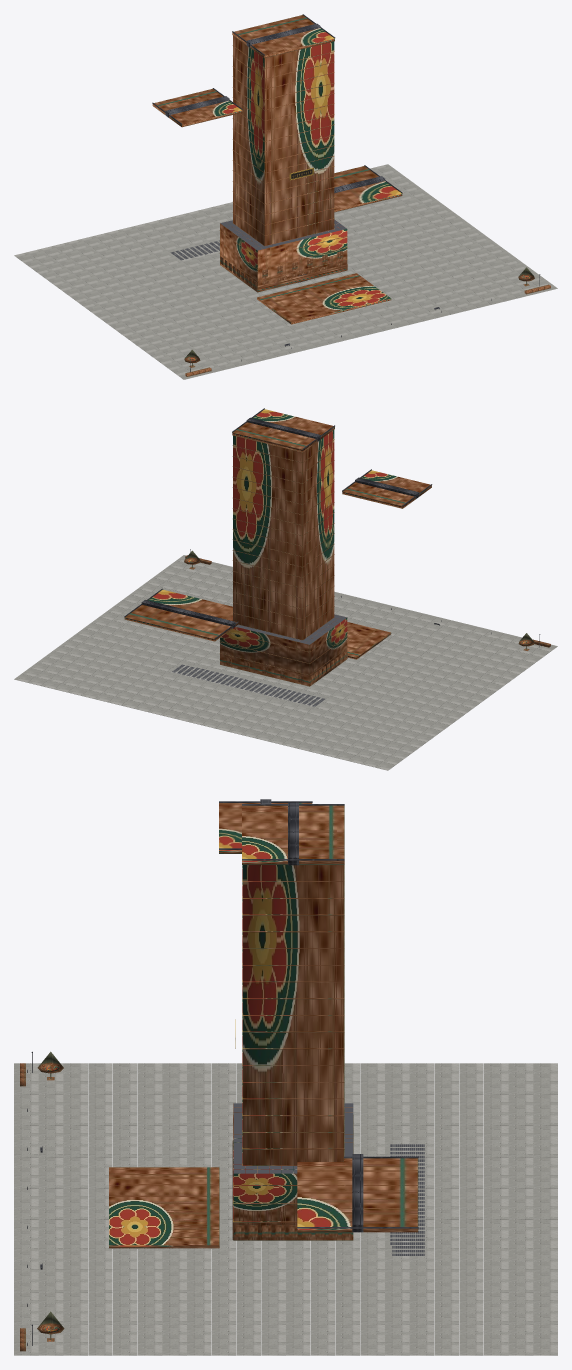
The picture shows the model from 3 angles, top to bottom: view 1: azimuth 30°, elevation 25°; view 2: azimuth 150°, elevation 25°; view 3: azimuth 270°, elevation 25°; orthographic projection. The views are drawn at different scales.
Parts seen in each view (by area): view 1: 11710_01_05842_036_01__plinth_ground_base, 11710_01_05842_036_02__mass_body_facade, 11710_01_05842_036_03__roof_metal_ornament, 11710_01_05842_036_03__roof_deck_structure, 11710_01_05842_036_06__landscape_greenery; view 2: 11710_01_05842_036_01__plinth_ground_base, 11710_01_05842_036_02__mass_body_facade, 11710_01_05842_036_03__roof_deck_structure, 11710_01_05842_036_03__roof_metal_ornament, 11710_01_05842_036_06__landscape_greenery; view 3: 11710_01_05842_036_01__plinth_ground_base, 11710_01_05842_036_02__mass_body_facade, 11710_01_05842_036_03__roof_deck_structure, 11710_01_05842_036_03__roof_metal_ornament, 11710_01_05842_036_06__landscape_greenery.
Boxes of the visible parts, x1,y1,x2,y2 form: 11710_01_05842_036_01__plinth_ground_base: (14,164,557,379); 11710_01_05842_036_02__mass_body_facade: (152,15,402,324); 11710_01_05842_036_03__roof_metal_ornament: (152,14,402,193); 11710_01_05842_036_03__roof_deck_structure: (170,219,346,260); 11710_01_05842_036_06__landscape_greenery: (184,267,550,376); 11710_01_05842_036_01__plinth_ground_base: (14,555,557,770); 11710_01_05842_036_02__mass_body_facade: (124,409,431,686); 11710_01_05842_036_03__roof_deck_structure: (172,614,346,706); 11710_01_05842_036_03__roof_metal_ornament: (124,408,432,638); 11710_01_05842_036_06__landscape_greenery: (184,550,550,650); 11710_01_05842_036_01__plinth_ground_base: (14,1063,557,1355); 11710_01_05842_036_02__mass_body_facade: (109,803,418,1248); 11710_01_05842_036_03__roof_deck_structure: (233,1103,424,1255); 11710_01_05842_036_03__roof_metal_ornament: (219,799,418,1232); 11710_01_05842_036_06__landscape_greenery: (20,1051,64,1351).
Bounding box in the file's own units: 150 × 90.8 × 118.
7 materials, 7 textured.
